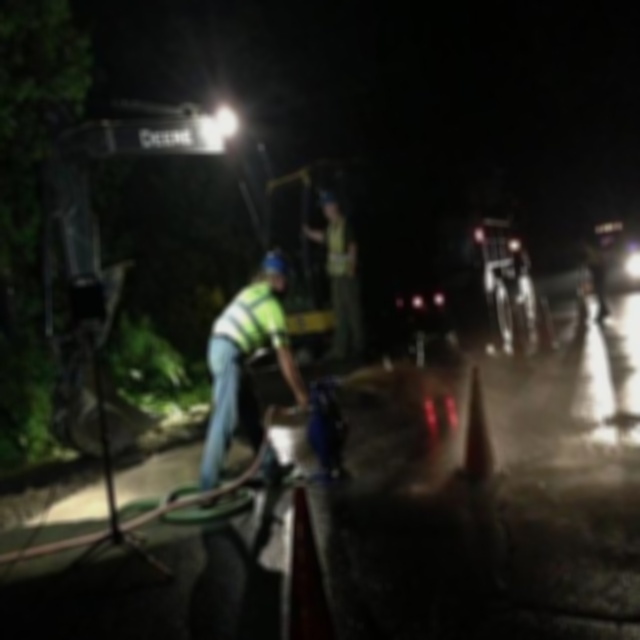Con_Chaleco: (208, 283, 289, 363), (321, 218, 359, 279)
